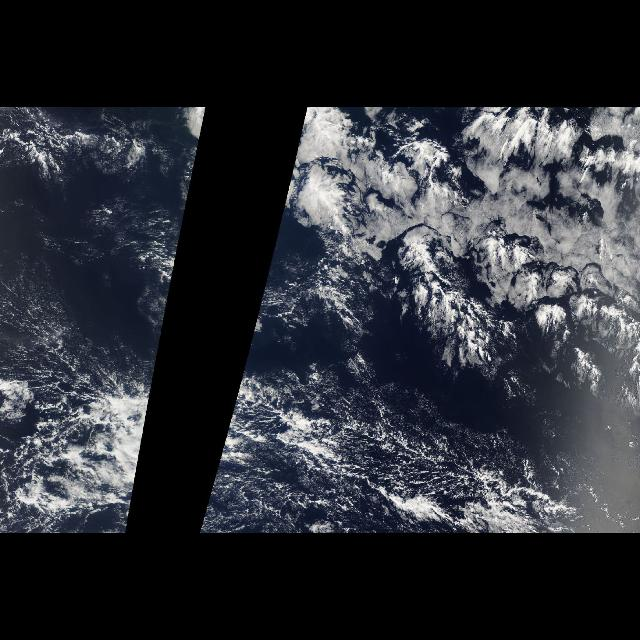Flower: (319, 217, 639, 373)
